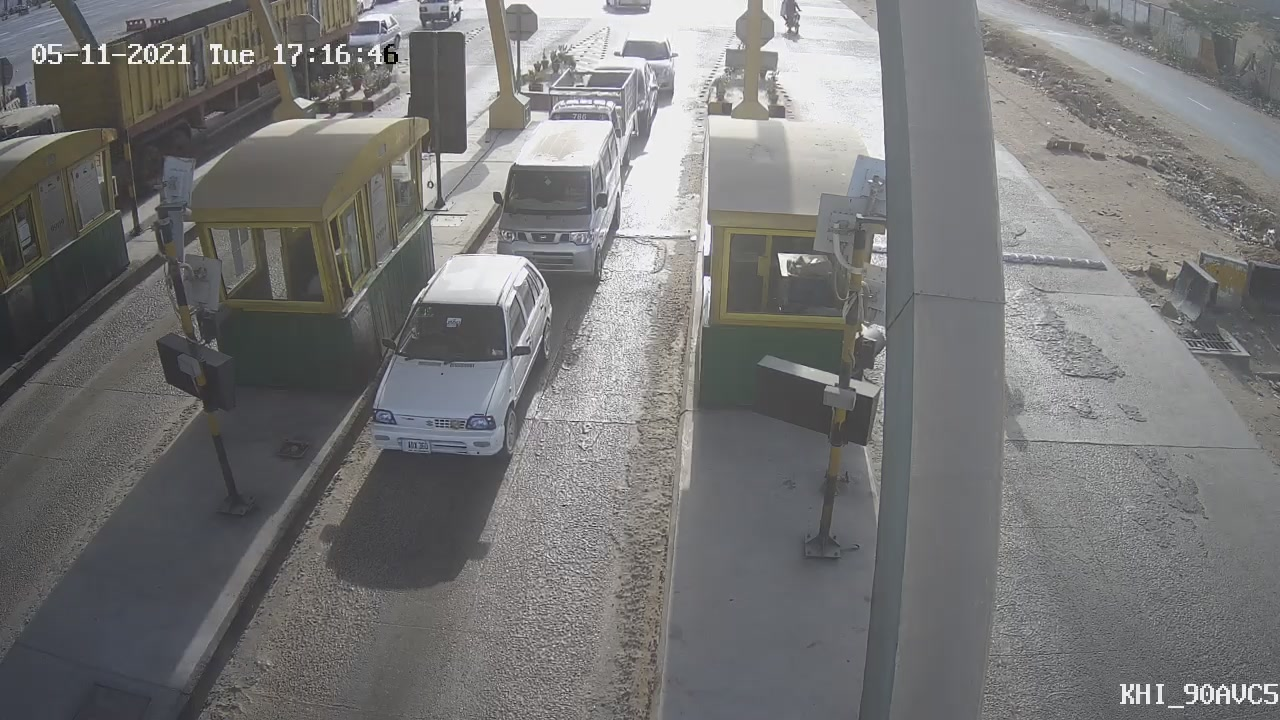F1: (351, 240, 576, 481), (474, 104, 630, 290)
